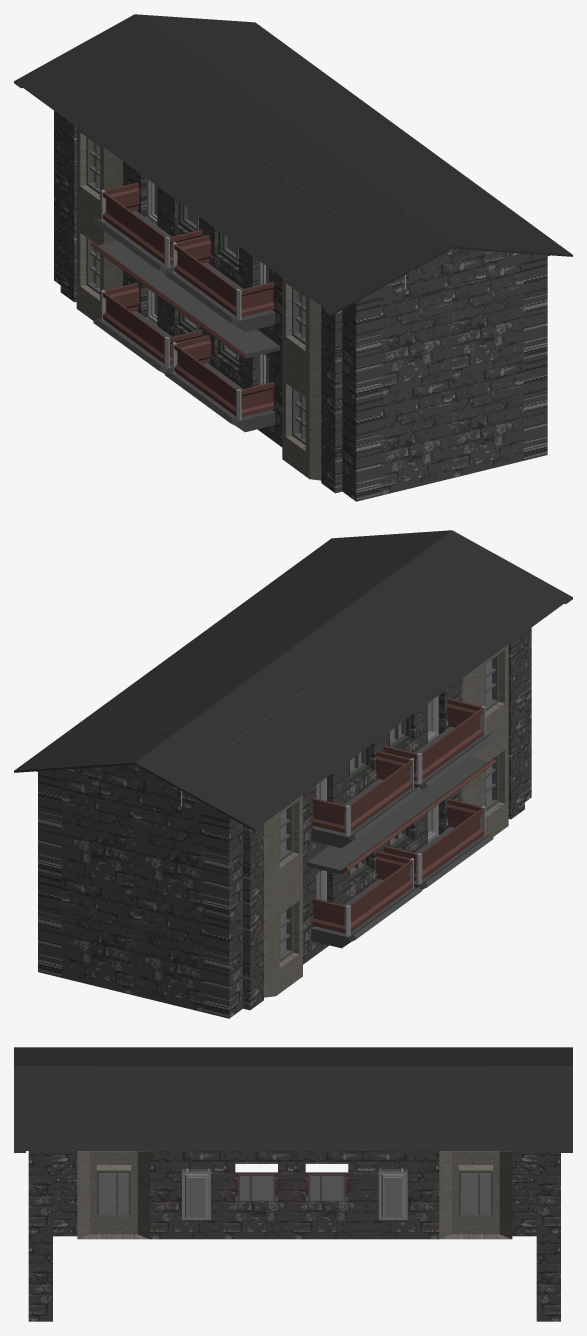
Rendered from BLOCK3.3.fbx.
3 renders of one model, top to bottom at view 1: azimuth 30°, elevation 25°; view 2: azimuth 150°, elevation 25°; view 3: azimuth 270°, elevation 25°, orthographic. The views are drawn at different scales.
Parts seen in each view (by area): view 1: Plane.2175, Plane.2174, Plane.2177, Plane.2178, Plane.2057, Plane.2039, Plane.2160, Plane.2164, Plane.2053, Plane.2048, Plane.2042, Plane.2078 (+43 smaller); view 2: Plane.2146, Plane.2145, Plane.2148, Plane.2149, Plane.2039, Plane.2057, Plane.2158, Plane.2162, Plane.2035, Plane.2082, Plane.2131, Plane.2078 (+43 smaller); view 3: Plane.2069, Plane.2070, Plane.1986, Plane.1984, Plane.1992, Plane.1994, Plane.2032, Plane.2050, Plane.2036, Plane.2045, Plane.2074, Plane.2079 (+30 smaller).
Part boxes in pixels (x1,y1,x2,y2): Plane.2175: (380, 378, 451, 495); Plane.2174: (452, 361, 523, 478); Plane.2177: (452, 262, 523, 377); Plane.2178: (380, 288, 451, 395); Plane.2057: (283, 233, 411, 315); Plane.2039: (14, 36, 142, 116); Plane.2160: (165, 335, 275, 432); Plane.2164: (164, 235, 275, 331); Plane.2053: (364, 211, 492, 273); Plane.2048: (104, 102, 225, 176); Plane.2042: (62, 72, 183, 146); Plane.2078: (145, 132, 266, 207); Plane.2146: (133, 895, 205, 1012); Plane.2145: (62, 878, 133, 995); Plane.2148: (62, 778, 133, 895); Plane.2149: (133, 804, 205, 912); Plane.2039: (175, 749, 303, 831); Plane.2057: (444, 552, 572, 632); Plane.2158: (311, 851, 421, 948); Plane.2162: (311, 751, 421, 848); Plane.2035: (94, 727, 222, 789); Plane.2082: (403, 588, 524, 662); Plane.2131: (361, 618, 482, 692); Plane.2078: (306, 658, 427, 733); Plane.2069: (439, 1151, 512, 1239); Plane.2070: (77, 1151, 150, 1239); Plane.1986: (150, 1151, 223, 1239); Plane.1984: (366, 1151, 439, 1239); Plane.1992: (293, 1151, 366, 1239); Plane.1994: (223, 1151, 295, 1239); Plane.2032: (488, 1094, 572, 1152); Plane.2050: (14, 1094, 98, 1152); Plane.2036: (415, 1094, 487, 1150); Plane.2045: (342, 1094, 414, 1150); Plane.2074: (269, 1094, 341, 1150); Plane.2079: (99, 1094, 171, 1150).
Size of the model in its own units: 1055 by 958 by 2300.
